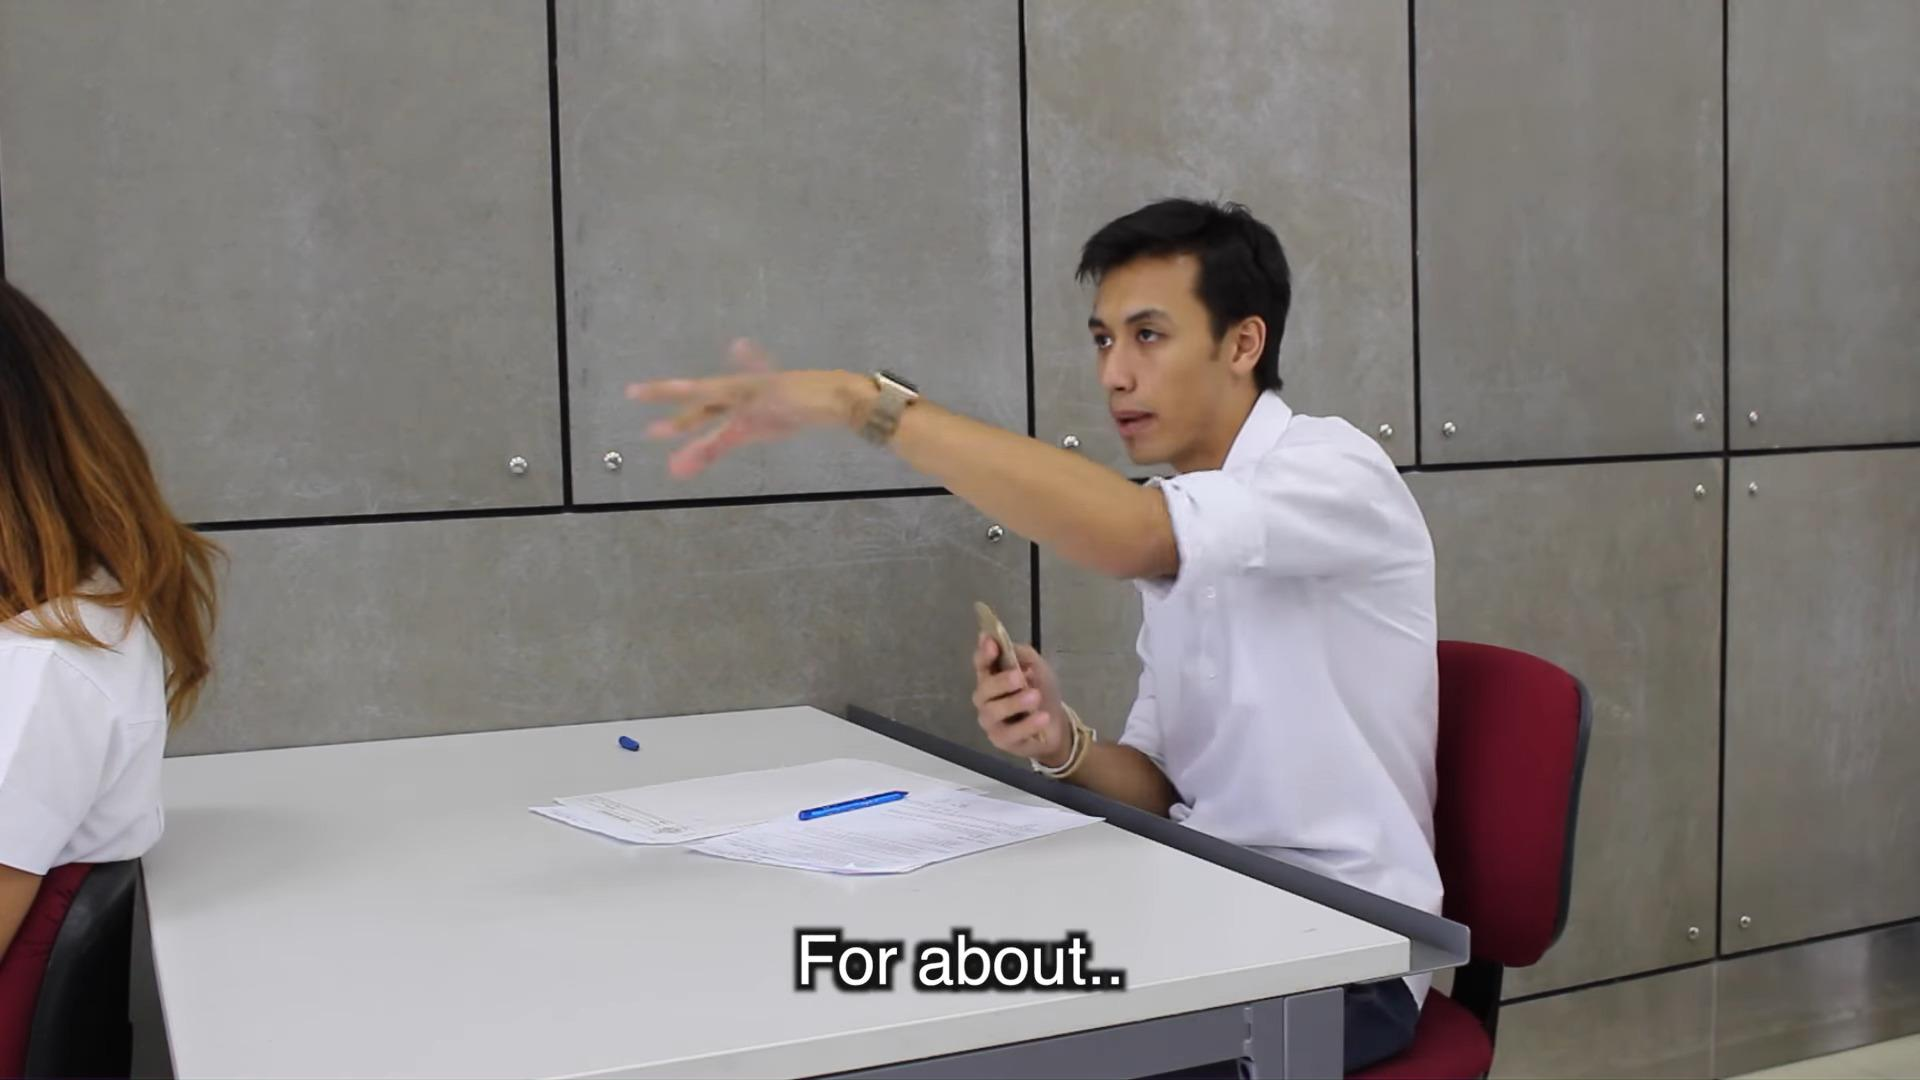cheating: (493, 133, 1481, 913)
